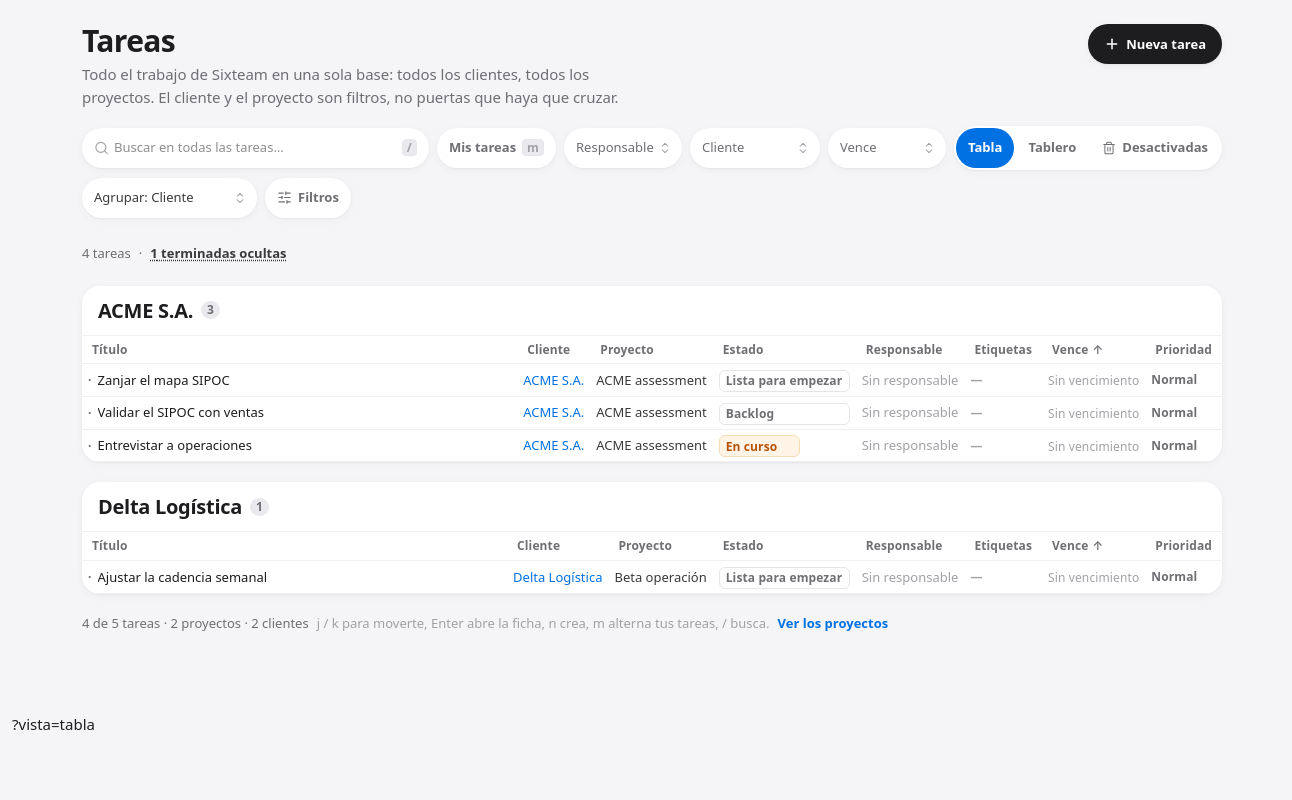
vista Desactivadas › se elige desde el conmutador, viaja en la URL, lista, cuenta días y restaura
Expected: the row with test id "tarea-fila-t-madre" is shown, [82,364,1222,396]
Click the button with test id "tareas-vista-desactivadas".
click(1155, 148)  # box [1090,128,1220,168]
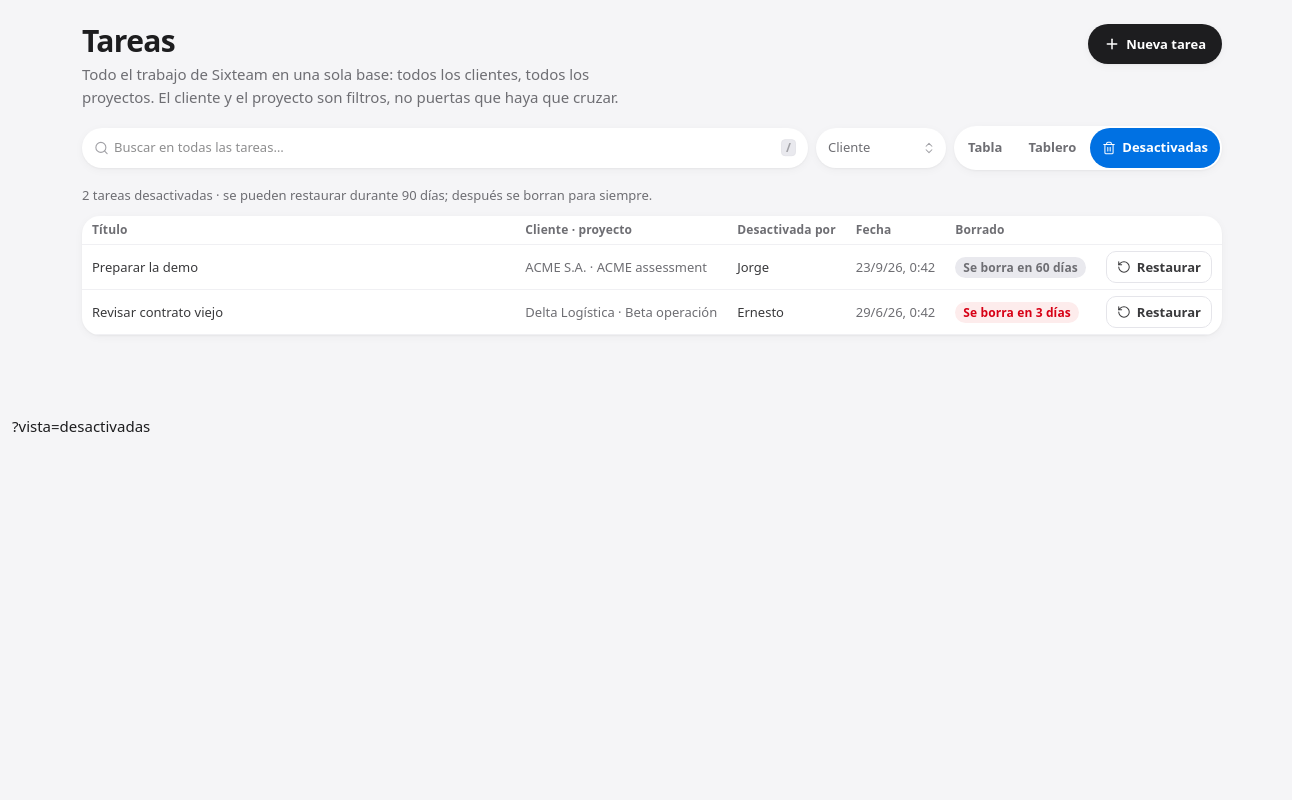
Result: the text with test id "ubicacion" shows "vista=desactivadas" at [12,416,150,436]
Result: the row with test id "desactivada-fila-t-vieja" is shown at [82,289,1222,334]
Result: the row with test id "tarea-fila-t-madre" is gone
Búsqueda: la misma caja de la vista.
Type "contrato" into the search field with test id "tareas-buscar".
click(445, 148); type("contrato")  # box [82,128,808,168]
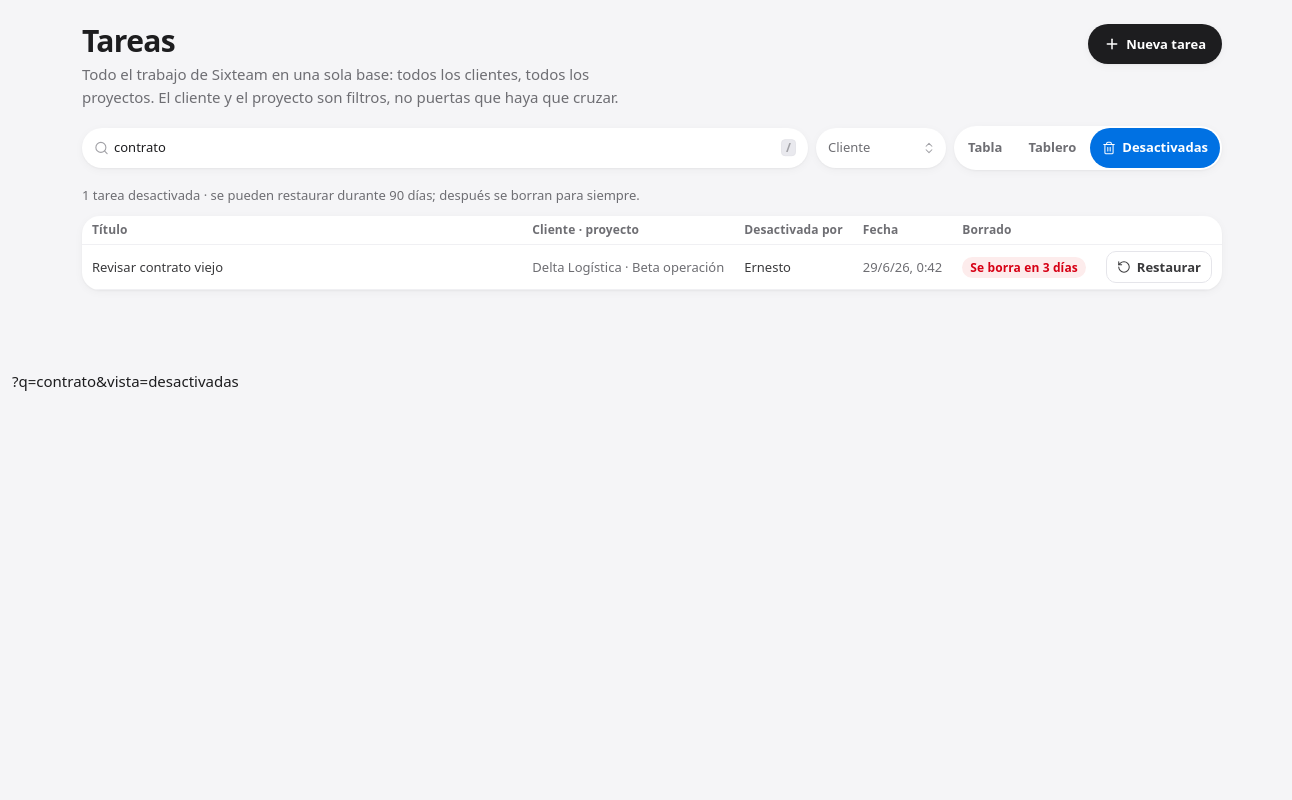
Result: the row with test id "desactivada-fila-t-vieja" is shown at [82,244,1222,289]
Result: the row with test id "desactivada-fila-t-reciente" is gone
Click the button with test id "desactivada-restaurar-t-vieja".
click(1159, 267)  # box [1106,251,1212,283]
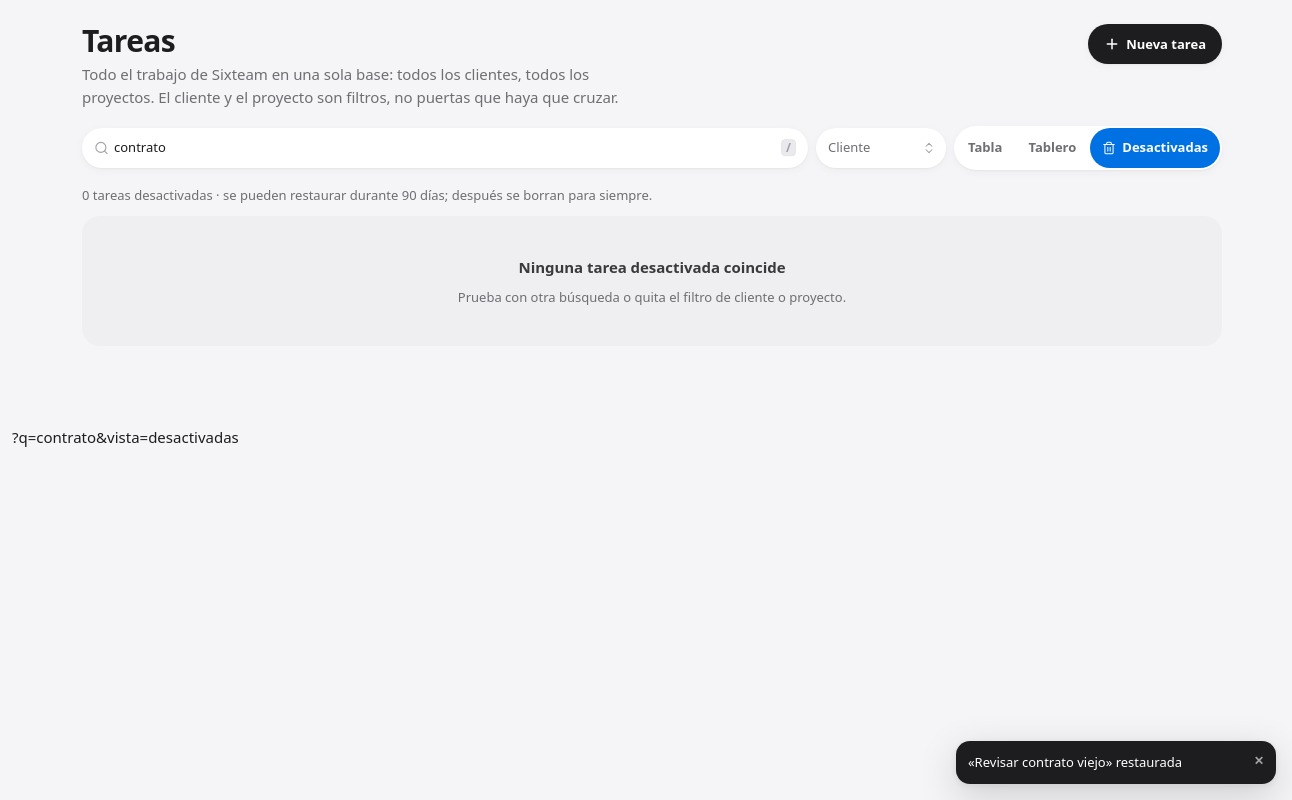
Result: the row with test id "desactivada-fila-t-vieja" is gone
Result: the text "Ninguna tarea desactivada coincide" is shown at [518,256,786,280]
